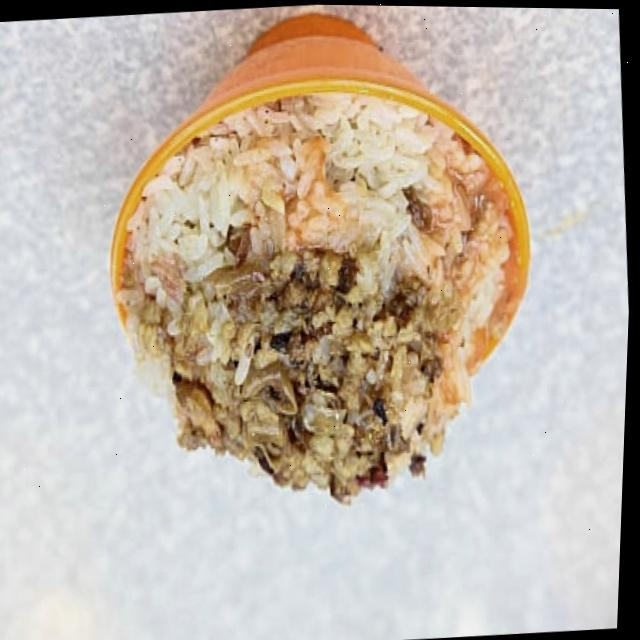米饭主食: (78, 36, 579, 539)
